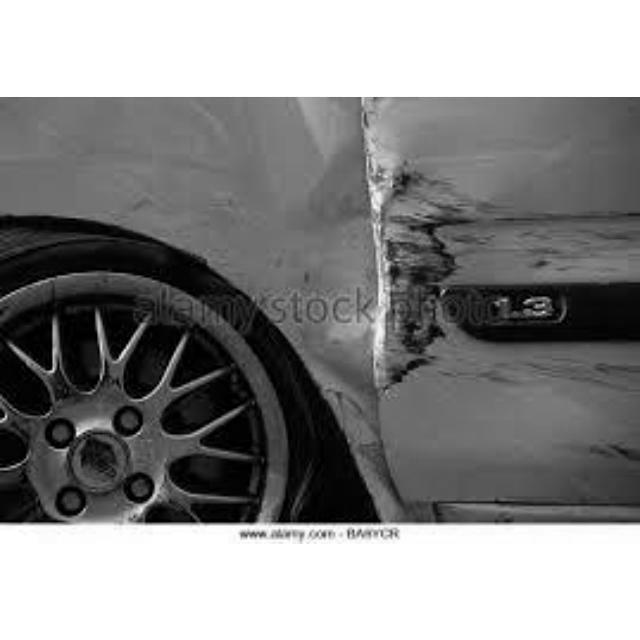doorouter-dent: (365, 96, 598, 502)
